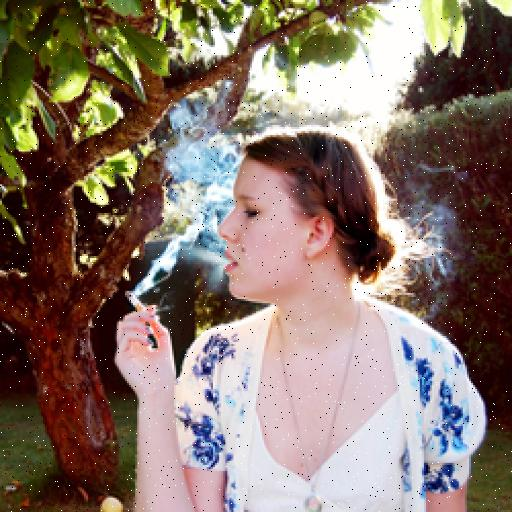asap rokok: (177, 165, 265, 298)
pegang rokok: (98, 270, 192, 392)
